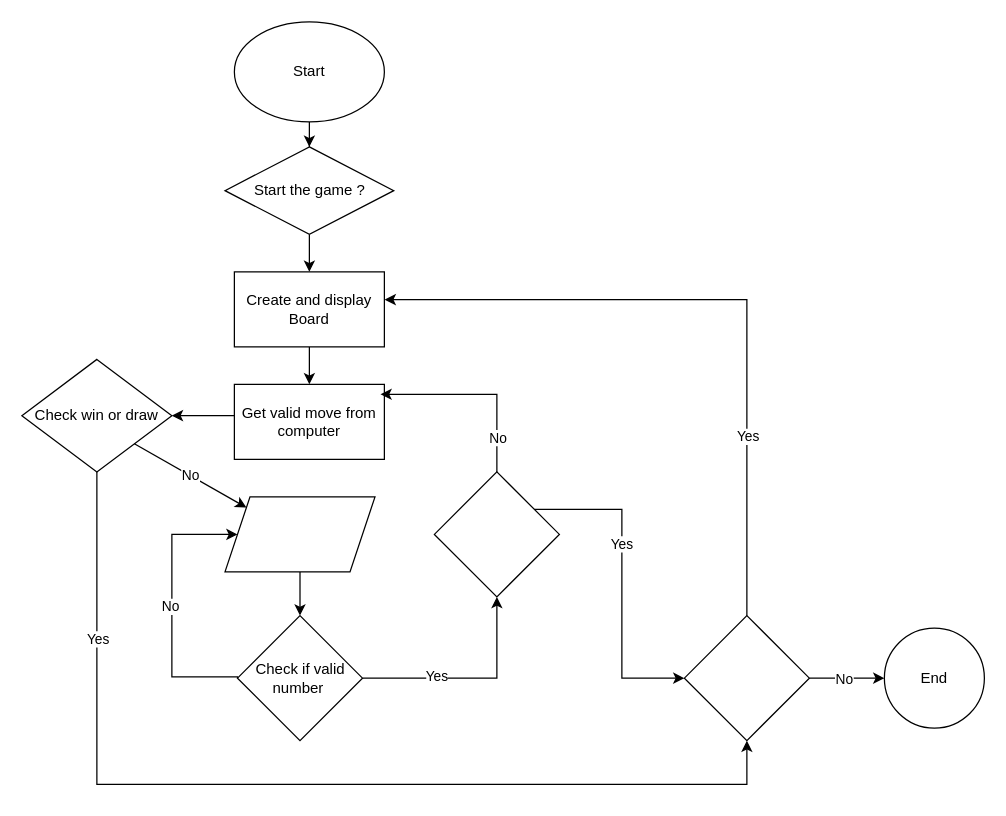
The diagram is 1006 pixels wide and 816 high, and some of its shapes have lost their labels. The shapes that lost their labels are listed below. From the top down, each one's box as (x1, y1, x2, y2) in pixels, then its label:
(224, 496, 375, 572): Ask player's input
(433, 471, 559, 597): Check if win or draw
(683, 614, 809, 741): Play again ?
